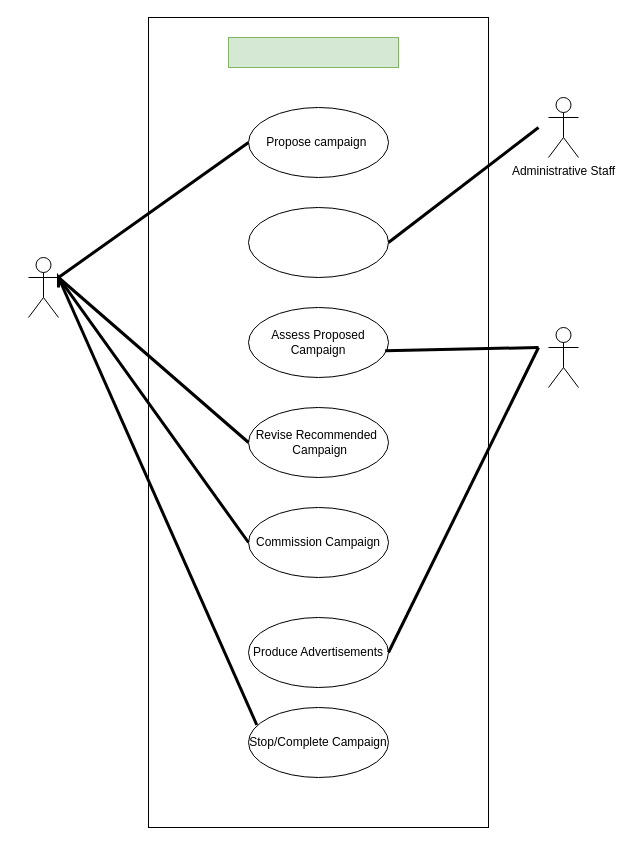
The diagram is 632 pixels wide and 845 high, and some of its shapes have lost their labels. Each missing label, with the box of its shape:
Advertising Use Case System: (228, 36, 398, 68)
Customer: (28, 256, 58, 318)
Record campaign details: (248, 206, 388, 278)
Technical Staff: (548, 326, 578, 388)
